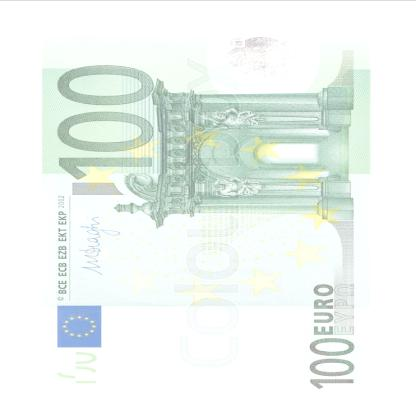euro_banknote: (9, 32, 402, 381)
